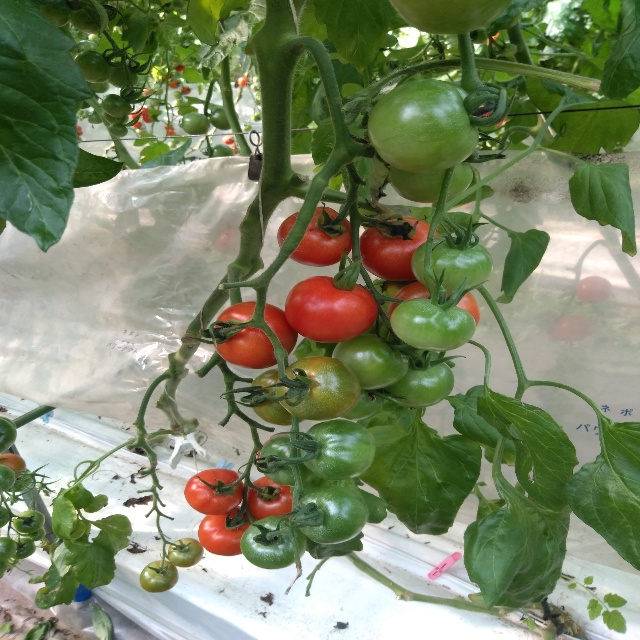l_fully_ripened: (284, 276, 378, 343), (212, 301, 298, 369), (359, 217, 442, 282), (276, 207, 353, 267), (387, 281, 480, 326), (198, 506, 258, 556), (185, 469, 244, 515), (243, 476, 299, 520)
l_green: (367, 78, 480, 172), (411, 236, 493, 294), (389, 298, 477, 352), (290, 485, 369, 545), (299, 419, 375, 481), (332, 331, 409, 390), (389, 0, 511, 35), (381, 355, 454, 408), (240, 516, 307, 570), (386, 162, 472, 204), (259, 434, 317, 486), (339, 389, 383, 421), (139, 560, 179, 593), (70, 2, 107, 35), (75, 50, 111, 83), (167, 538, 204, 568), (107, 60, 139, 89), (40, 0, 72, 28), (13, 510, 45, 533), (102, 94, 132, 118), (209, 107, 240, 130), (4, 469, 32, 492), (0, 418, 18, 453), (182, 113, 210, 135), (12, 537, 36, 559), (0, 464, 16, 492), (0, 537, 17, 560), (211, 143, 235, 158), (108, 123, 128, 138), (0, 506, 11, 529), (88, 113, 103, 124)
l_half_ripened: (275, 356, 362, 421), (250, 366, 305, 426), (0, 453, 27, 480)
